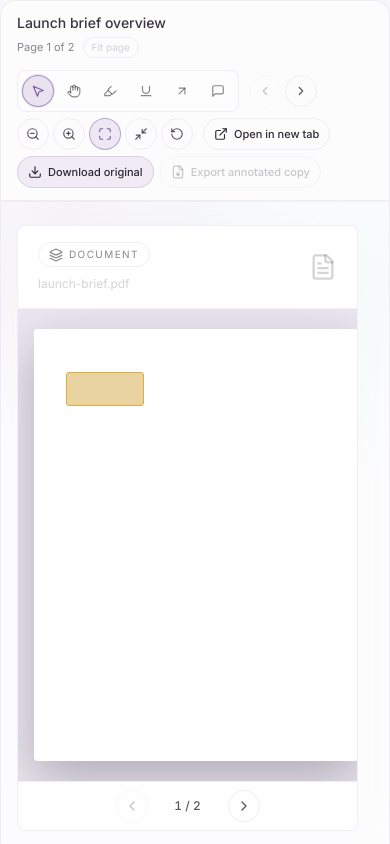
Test: ArtifactStage › restores only annotations for the active persisted page
The image size is (390, 844).
What coordinates should you click on to do the following:
click the button named "Next page"
I would click on:
 (301, 91)
Its box is [285,75,317,107].
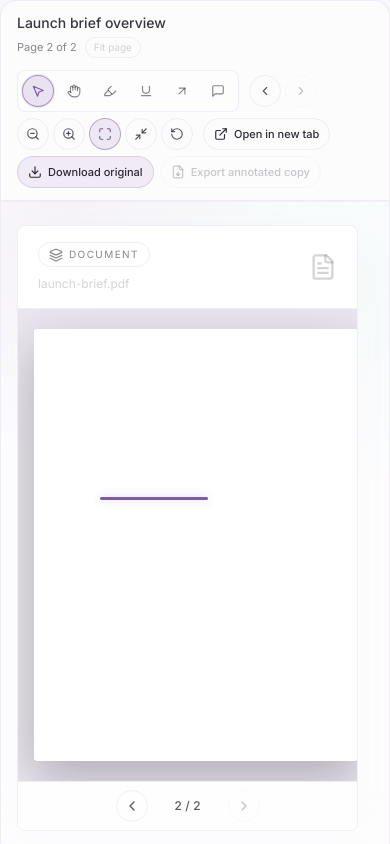
Expected: the text "Page 2 of 2" is shown, [17,39,77,56]
Expected: the button with test id "artifact-highlight-annotation" is gone
